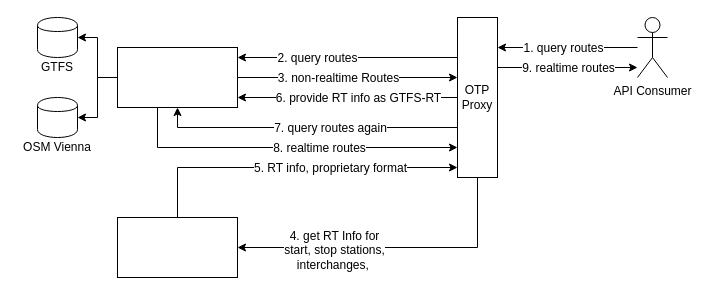
Some shapes in this 708 by 295 pixel diagram are drawn without their labels. Here are the shapes that lost their labels. From the top down, the centre of each, then its label:
At pixel 177 77: "OTP".
At pixel 177 247: "Wiener Linien Realtime API".
